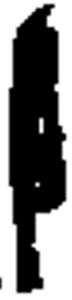Reed: (8, 3, 67, 292)
